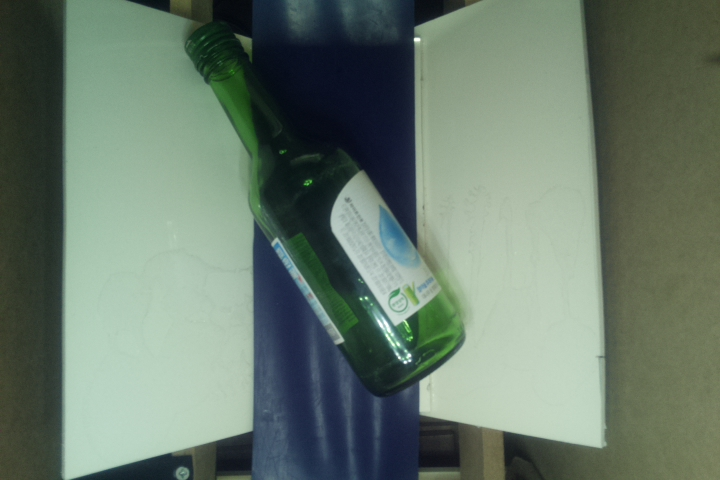soju: (180, 20, 464, 400)
